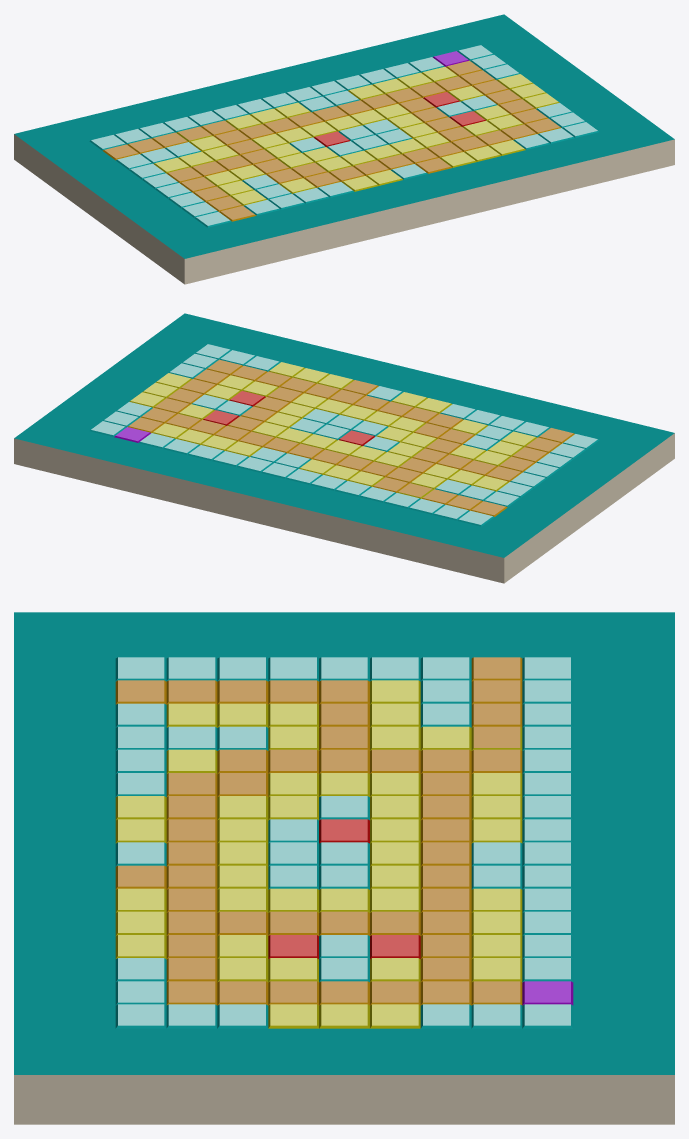
The model's file is Floor.fbx.
3 renders of one model, top to bottom at view 1: azimuth 30°, elevation 25°; view 2: azimuth 150°, elevation 25°; view 3: azimuth 270°, elevation 25°, orthographic. The views are drawn at different scales.
Parts seen in each view (by area): view 1: Floor; view 2: Floor; view 3: Floor.
Part boxes in pixels (x1,y1,x2,y2): Floor: (14, 14, 674, 284); Floor: (14, 313, 674, 583); Floor: (14, 612, 674, 1124).
Size of the model in its own units: 7.87 by 0.4114 by 4.75.
